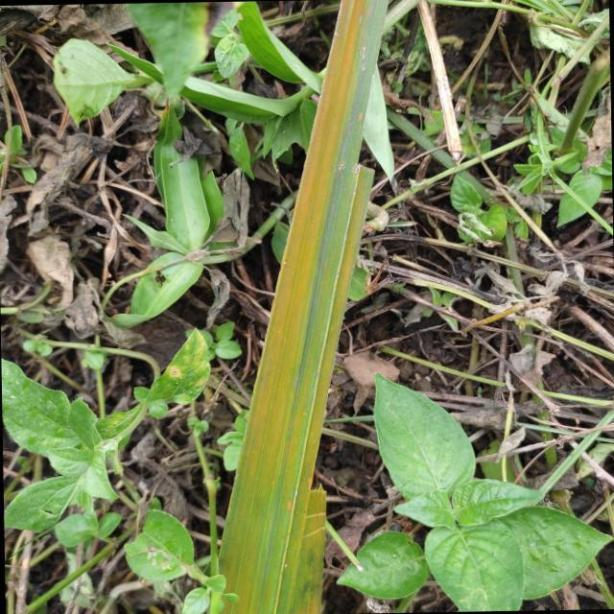Megnesium: (213, 0, 390, 600)
